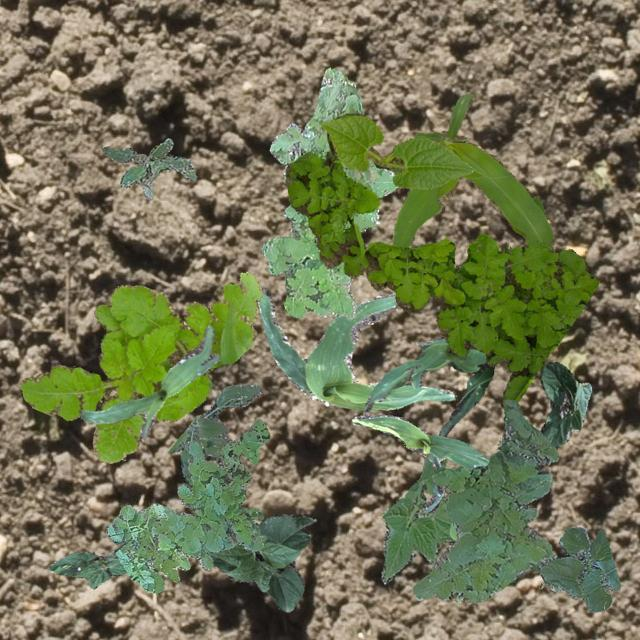crop: (388, 91, 554, 248), (256, 286, 454, 409), (78, 324, 218, 440), (351, 414, 488, 512), (362, 334, 493, 436), (321, 114, 472, 188), (207, 512, 316, 610), (380, 457, 454, 582), (540, 526, 620, 610), (540, 362, 590, 448), (48, 548, 126, 588)
weed: (284, 112, 598, 406), (19, 270, 262, 462), (260, 66, 398, 318), (412, 398, 562, 602), (105, 418, 268, 592), (168, 384, 260, 486), (101, 138, 195, 198), (448, 522, 456, 540), (454, 596, 462, 602)
